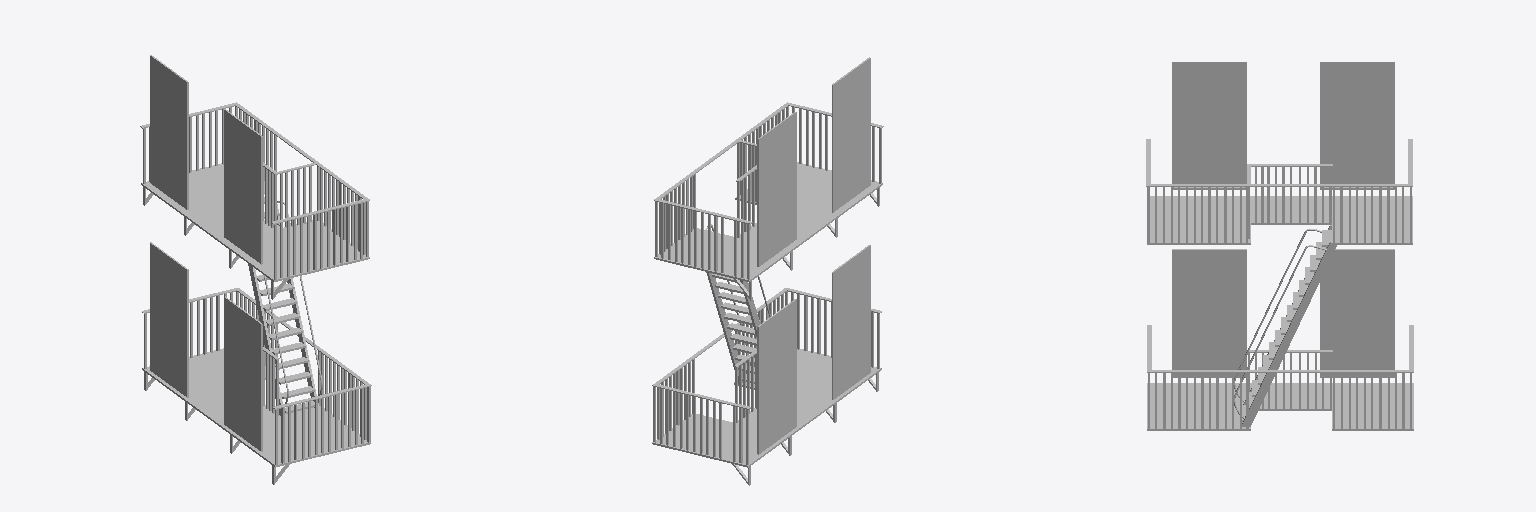
File: SingleFireEscape.obj
The picture shows the model from 3 angles: view 1: azimuth 30°, elevation 25°; view 2: azimuth 150°, elevation 25°; view 3: azimuth 270°, elevation 25°; orthographic projection.
Visible parts, largest first — view 1: Cube.007, Cube.077_Cube.001, Cube.011_Cube.002, Cube.008, Cube.009_Cube.002, Cube.010_Cube.002, Cube.152_Cube.001, Cube.006, Cube.076_Cube.001, Cube.154_Cube.001, Cube.153_Cube.001; view 2: Cube.007, Cube.077_Cube.001, Cube.011_Cube.002, Cube.009_Cube.002, Cube.008, Cube.010_Cube.002, Cube.152_Cube.001, Cube.006, Cube.076_Cube.001, Cube.153_Cube.001; view 3: Cube.008, Cube.010_Cube.002, Cube.009_Cube.002, Cube.011_Cube.002, Cube.007, Cube.077_Cube.001, Cube.153_Cube.001, Cube.152_Cube.001, Cube.006, Cube.076_Cube.001.
Boxes of the visible parts, <box> form: Cube.007: <box>141,163,369,281</box>; Cube.077_Cube.001: <box>142,348,370,466</box>; Cube.011_Cube.002: <box>150,242,188,397</box>; Cube.008: <box>224,109,262,264</box>; Cube.009_Cube.002: <box>150,55,188,209</box>; Cube.010_Cube.002: <box>224,296,262,451</box>; Cube.152_Cube.001: <box>257,197,314,413</box>; Cube.006: <box>140,102,369,224</box>; Cube.076_Cube.001: <box>142,288,371,409</box>; Cube.154_Cube.001: <box>248,264,285,416</box>; Cube.153_Cube.001: <box>277,204,319,408</box>; Cube.007: <box>654,162,882,281</box>; Cube.077_Cube.001: <box>652,349,881,467</box>; Cube.011_Cube.002: <box>757,299,796,454</box>; Cube.009_Cube.002: <box>757,112,796,266</box>; Cube.008: <box>832,57,870,212</box>; Cube.010_Cube.002: <box>832,245,870,399</box>; Cube.152_Cube.001: <box>707,230,759,383</box>; Cube.006: <box>654,102,883,223</box>; Cube.076_Cube.001: <box>652,288,881,409</box>; Cube.153_Cube.001: <box>706,272,742,383</box>; Cube.008: <box>1172,62,1246,189</box>; Cube.010_Cube.002: <box>1172,249,1246,377</box>; Cube.009_Cube.002: <box>1320,62,1394,189</box>; Cube.011_Cube.002: <box>1320,249,1394,377</box>; Cube.007: <box>1147,196,1412,244</box>; Cube.077_Cube.001: <box>1147,383,1413,430</box>; Cube.153_Cube.001: <box>1242,241,1336,426</box>; Cube.152_Cube.001: <box>1242,230,1331,421</box>; Cube.006: <box>1146,139,1412,186</box>; Cube.076_Cube.001: <box>1147,325,1413,372</box>.
Size of the model in its own units: 1.19 by 3.97 by 2.82.